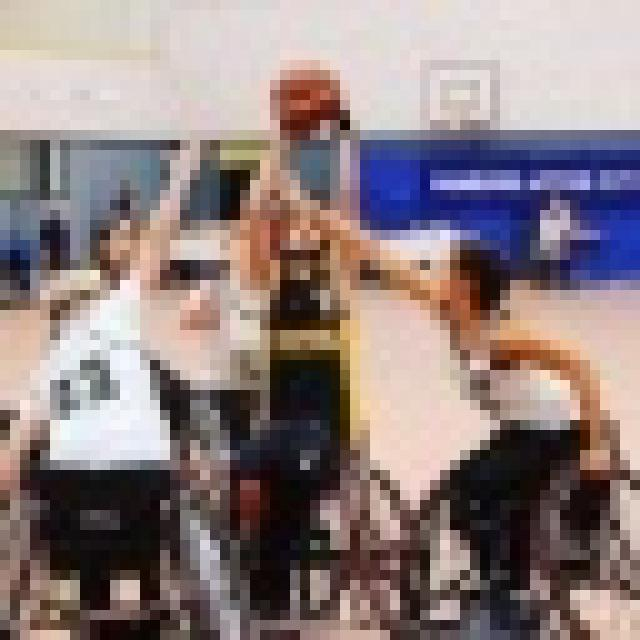wheelchairs: (1, 410, 238, 640), (223, 414, 430, 640), (435, 413, 640, 640)
